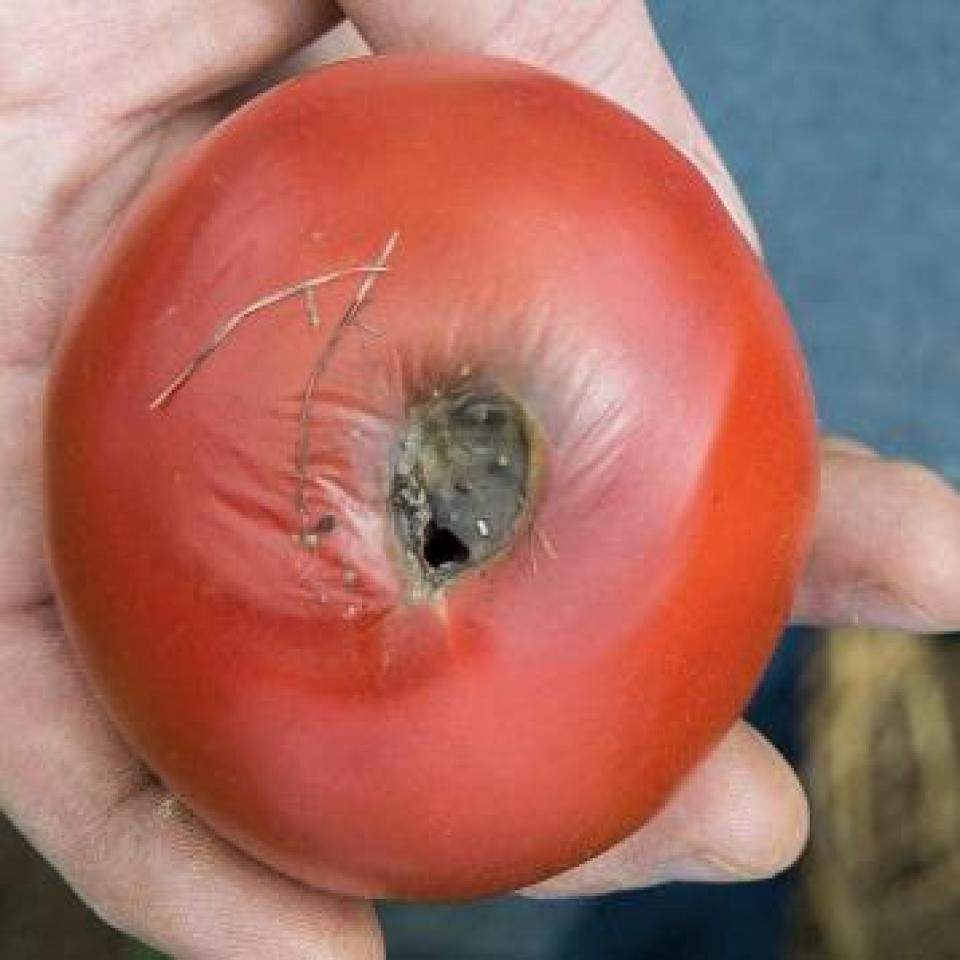Blossom_end_rot: (367, 335, 567, 615)
Cracking: (137, 261, 394, 421), (286, 210, 404, 499)
